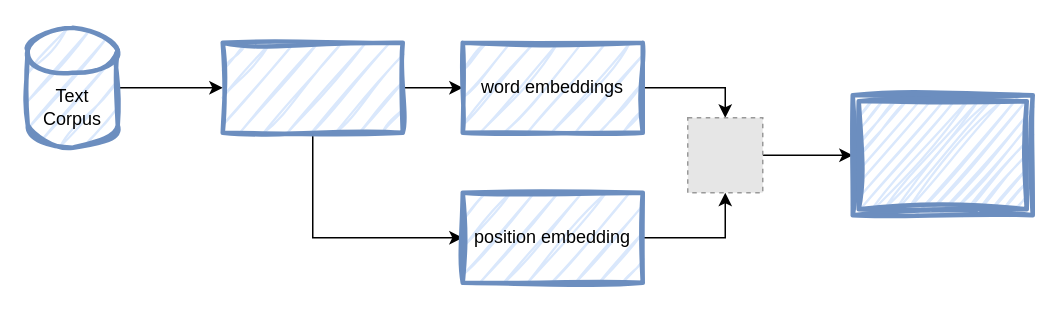
The diagram is 1061 pixels wide and 311 high, and some of its shapes have lost their labels. Grey dashed boxes stand in for pictures. The centre of each missing label's shape, as x and y in pixels:
Input embedding: (942,154)
Tokenization: (312,87)
